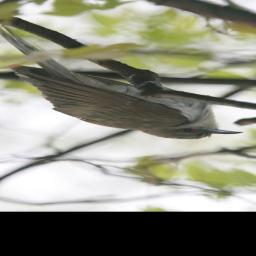Cuckoo: (0, 19, 242, 140)
